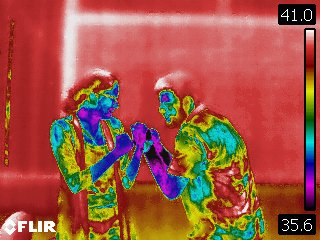human: (139, 71, 267, 240), (48, 69, 140, 237)
